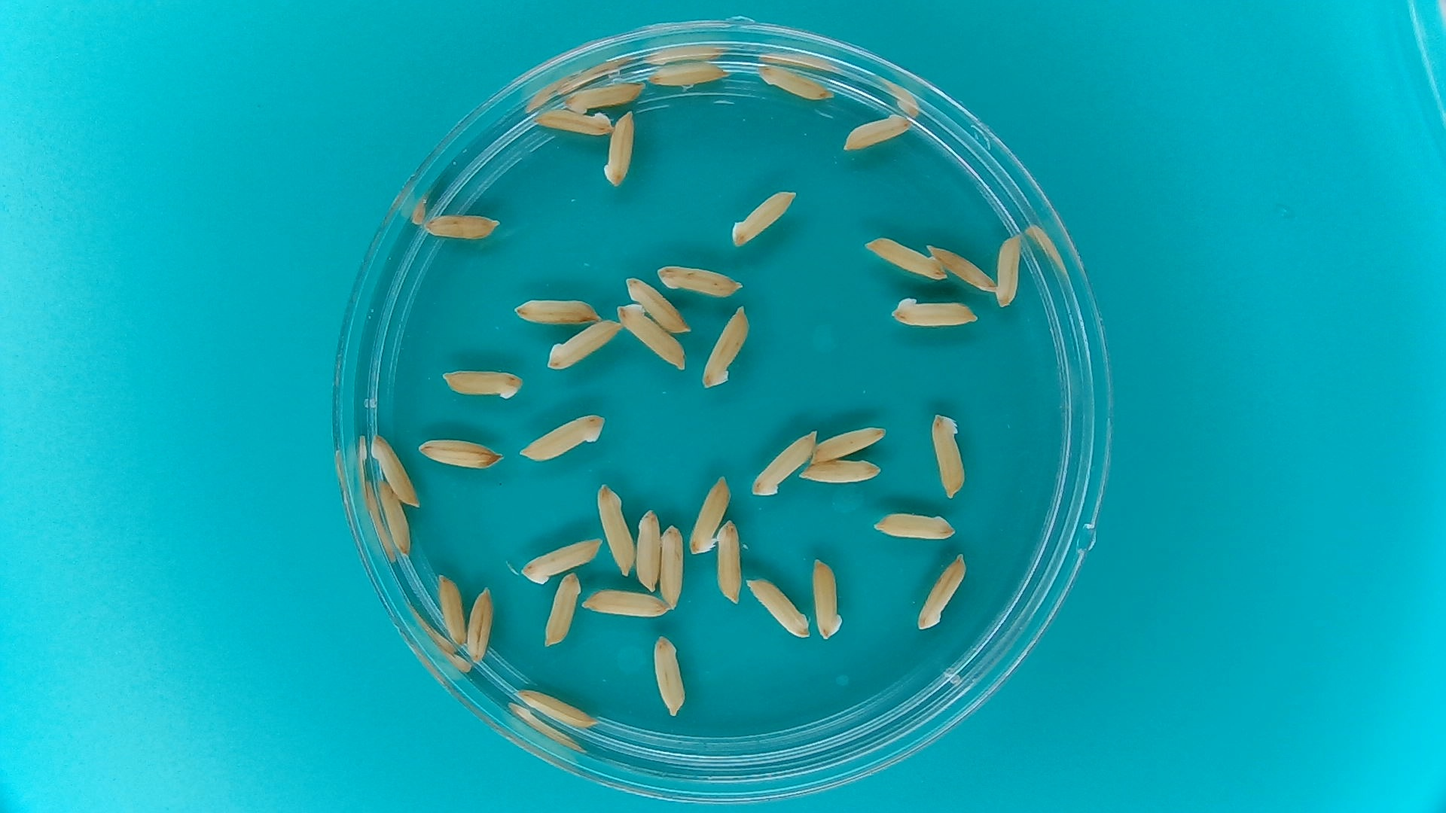no: (614, 300, 688, 372), (912, 549, 971, 635), (745, 430, 819, 498), (515, 409, 606, 464), (517, 534, 606, 589), (726, 185, 801, 250), (742, 574, 812, 641), (700, 303, 752, 390), (543, 318, 624, 373), (368, 431, 421, 510), (511, 684, 600, 730), (594, 480, 636, 577), (624, 273, 691, 333), (539, 568, 586, 653), (861, 236, 946, 282), (886, 292, 984, 330), (687, 472, 731, 556), (926, 242, 997, 294), (578, 585, 675, 623), (648, 631, 689, 720), (929, 412, 970, 501), (837, 108, 915, 154), (808, 422, 889, 465), (373, 477, 414, 561), (754, 59, 836, 101), (654, 260, 743, 298), (415, 433, 505, 470), (439, 364, 525, 402), (808, 555, 845, 643), (871, 507, 958, 544), (561, 77, 645, 115), (511, 292, 602, 327), (601, 108, 638, 190), (463, 582, 497, 667), (431, 569, 467, 648), (796, 455, 886, 486), (529, 106, 612, 139), (714, 517, 744, 607), (422, 209, 503, 242), (645, 56, 728, 88), (657, 522, 687, 610), (992, 230, 1025, 310), (632, 506, 661, 592)
